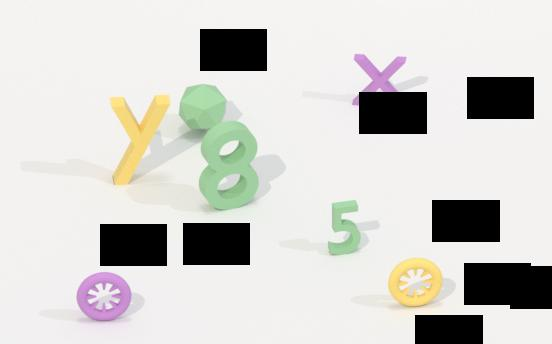5: (324, 198, 363, 261)
8: (196, 120, 263, 216)
Y: (107, 88, 173, 194)
dagiac: (177, 81, 230, 137)
tron: (386, 254, 444, 312), (75, 269, 134, 325)
x: (352, 47, 413, 111)
